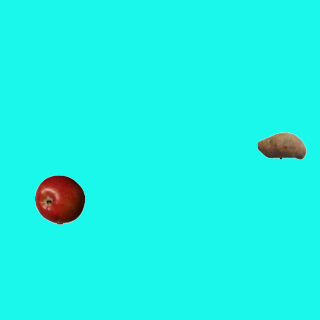Apple Braeburn: (34, 174, 84, 224)
Potato Sweet: (256, 120, 306, 170)
